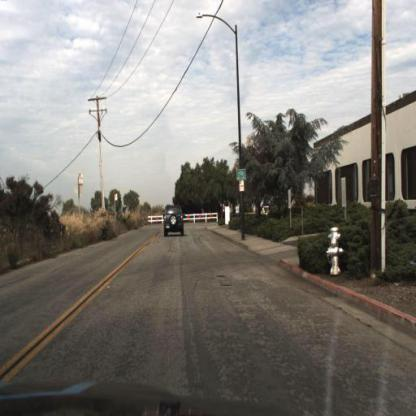car: (160, 204, 184, 236)
